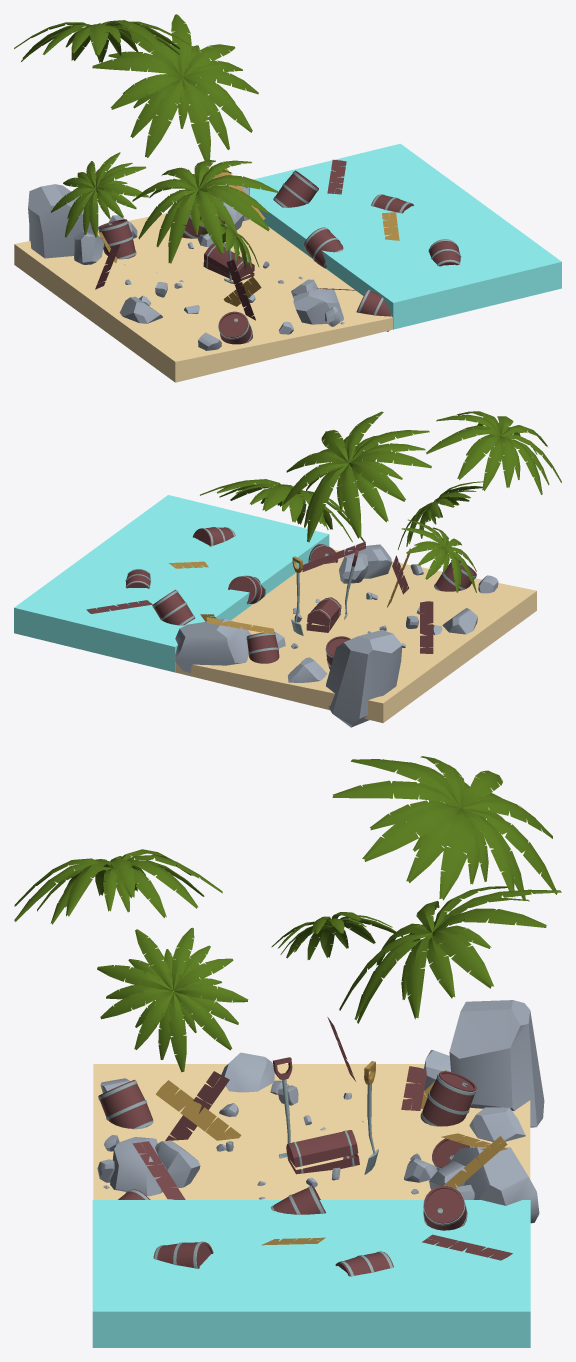
File: island.dae
The picture shows the model from 3 angles, top to bottom: view 1: azimuth 30°, elevation 25°; view 2: azimuth 150°, elevation 25°; view 3: azimuth 270°, elevation 25°; orthographic projection. The views are drawn at different scales.
Visible parts, largest first — view 1: sea, sand, foliage, foliage.3, foliage.5, foliage.4, rock.010, rock.012, barrel.004, barrel, barrel.001, barrel.003 (+9 smaller); view 2: sea, sand, foliage.4, rock.010, foliage.3, rock.004, foliage, foliage.5, foliage.2, barrel.004, barrel.005, rock.012 (+11 smaller); view 3: sea, sand, foliage.4, foliage.2, foliage, rock.010, foliage.3, rock.004, foliage.5, barrel, rock.012, barrel.001 (+14 smaller).
Boxes of the visible parts, box(x1,y1,x2,y2) form: sea: box(250, 143, 561, 329); sand: box(14, 213, 392, 382); foliage: box(92, 14, 258, 160); foliage.3: box(132, 159, 278, 263); foliage.5: box(51, 152, 148, 237); foliage.4: box(14, 20, 196, 62); rock.010: box(28, 184, 93, 258); rock.012: box(293, 288, 343, 324); barrel.004: box(273, 170, 318, 207); barrel: box(98, 219, 136, 259); barrel.001: box(218, 311, 252, 344); barrel.003: box(304, 227, 343, 268); sea: box(14, 495, 329, 672); sand: box(175, 549, 536, 722); foliage.4: box(283, 411, 431, 542); rock.010: box(326, 630, 402, 727); foliage.3: box(426, 411, 561, 494); rock.004: box(174, 618, 251, 672); foliage: box(200, 479, 364, 542); foliage.5: box(401, 519, 476, 592); foliage.2: box(398, 481, 483, 549); barrel.004: box(152, 589, 194, 625); barrel.005: box(246, 632, 279, 663); rock.012: box(347, 544, 392, 578); sea: box(92, 1200, 530, 1347); sand: box(93, 1064, 530, 1199); foliage.4: box(332, 756, 557, 900); foliage.2: box(97, 927, 248, 1072); foliage: box(339, 886, 561, 1023); rock.010: box(449, 1000, 544, 1127); foliage.3: box(14, 849, 222, 924); rock.004: box(447, 1147, 539, 1223); foliage.5: box(271, 912, 402, 959); barrel: box(420, 1071, 476, 1126); rock.012: box(110, 1137, 166, 1196); barrel.001: box(98, 1079, 153, 1129).
Size of what is drawn, in the model's own units: 10.25 by 8.75 by 6.54.
